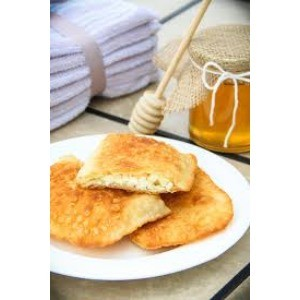cheese_brain food: (63, 152, 206, 214)
